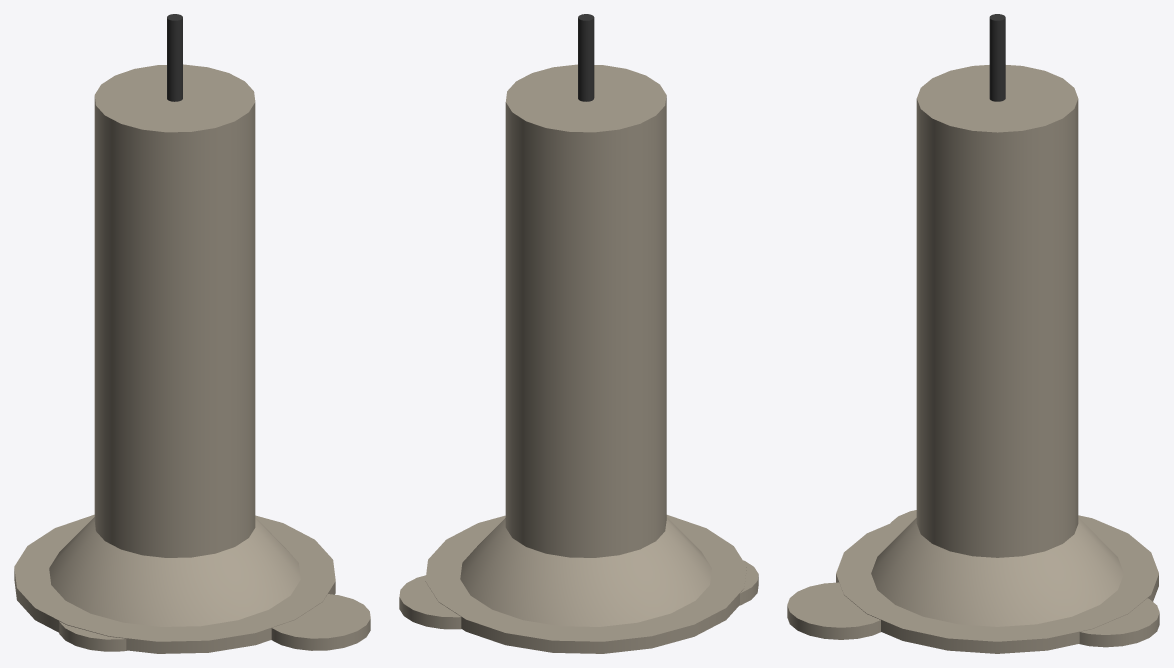
The model's file is candle.fbx.
The picture shows the model from 3 angles, left to right: view 1: azimuth 30°, elevation 25°; view 2: azimuth 150°, elevation 25°; view 3: azimuth 270°, elevation 25°; orthographic projection.
Parts seen in each view (by area): view 1: CANDLENEW; view 2: CANDLENEW; view 3: CANDLENEW.
Part boxes in pixels (bbox=[...]): CANDLENEW: bbox=[14, 14, 370, 653]; CANDLENEW: bbox=[399, 14, 758, 653]; CANDLENEW: bbox=[787, 14, 1159, 653].
Bounding box in the file's own units: 15 × 29.15 × 17.3.
